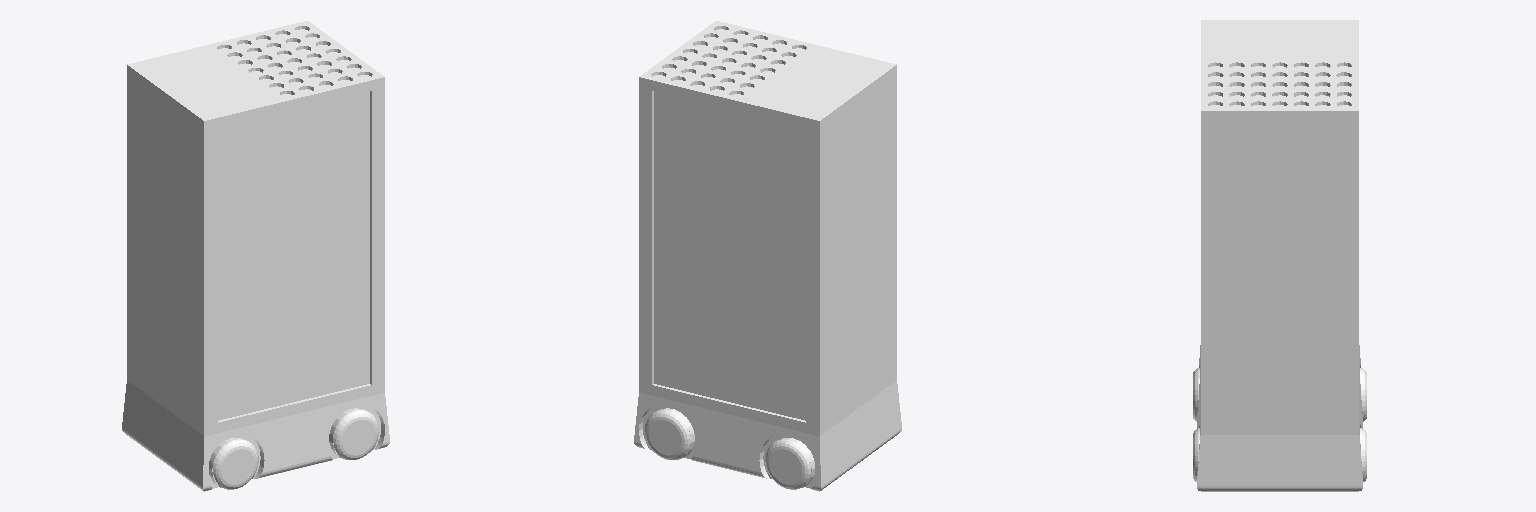
robot.urdf — agv3:
<?xml version="1.0" encoding="utf-8"?>
<!-- This URDF was automatically created by SolidWorks to URDF Exporter! Originally created by [author] ([email redacted]) 
     Commit Version: 1.6.0-4-g7f85cfe  Build Version: 1.6.7995.38578
     For more information, please see http://wiki.ros.org/sw_urdf_exporter -->
<robot
  name="agv3">
  <link
    name="base_link">
    <inertial>
      <origin
        xyz="0.28857 -0.40803 0.27532"
        rpy="0 0 0" />
      <mass
        value="36.72" />
      <inertia
        ixx="0.60468"
        ixy="4.2841E-06"
        ixz="8.6355E-09"
        iyy="1.0089"
        iyz="5.0394E-10"
        izz="1.4554" />
    </inertial>
    <visual>
      <origin
        xyz="0 0 0"
        rpy="0 0 0" />
      <geometry>
        <mesh
          filename="package://agv3/meshes/base_link.STL" />
      </geometry>
      <material
        name="">
        <color
          rgba="1 1 1 1" />
      </material>
    </visual>
    <collision>
      <origin
        xyz="0 0 0"
        rpy="0 0 0" />
      <geometry>
        <mesh
          filename="package://agv3/meshes/base_link.STL" />
      </geometry>
    </collision>
  </link>
  <link
    name="base">
    <inertial>
      <origin
        xyz="5.5511E-17 0.55105 -0.00027396"
        rpy="0 0 0" />
      <mass
        value="186.23" />
      <inertia
        ixx="17.159"
        ixy="1.1964E-16"
        ixz="1.1881E-15"
        iyy="6.8716"
        iyz="-0.022757"
        izz="14.873" />
    </inertial>
    <visual>
      <origin
        xyz="0 0 0"
        rpy="0 0 0" />
      <geometry>
        <mesh
          filename="package://agv3/meshes/base.STL" />
      </geometry>
      <material
        name="">
        <color
          rgba="1 1 1 1" />
      </material>
    </visual>
    <collision>
      <origin
        xyz="0 0 0"
        rpy="0 0 0" />
      <geometry>
        <mesh
          filename="package://agv3/meshes/base.STL" />
      </geometry>
    </collision>
  </link>
  <joint
    name="joint1"
    type="fixed">
    <origin
      xyz="0.28857 -0.40803 1.3574"
      rpy="-1.5708 0 -1.5708" />
    <parent
      link="base_link" />
    <child
      link="base" />
    <axis
      xyz="0 0 0" />
  </joint>
</robot>

--- Facts derived from the render (not from the file) ---
The picture shows the robot from 3 angles, left to right: view 1: azimuth 30°, elevation 25°; view 2: azimuth 150°, elevation 25°; view 3: azimuth 270°, elevation 25°; orthographic projection.
Robot: agv3 — 2 links, 1 joints (1 fixed); root link base_link; default pose: every joint at zero.
Links seen in each view (by area): view 1: base, base_link; view 2: base, base_link; view 3: base, base_link.
Link boxes in pixels (x1=…): base: x1=127, y1=21, x2=384, y2=435; base_link: x1=122, y1=380, x2=389, y2=491; base: x1=639, y1=21, x2=896, y2=435; base_link: x1=634, y1=380, x2=901, y2=491; base: x1=1201, y1=20, x2=1358, y2=434; base_link: x1=1193, y1=345, x2=1366, y2=491.
Size in the robot's own frame: 0.5594 by 0.44 by 1.07 metres.
2 mesh visuals loaded from 2 distinct referenced files (2 binary STL).